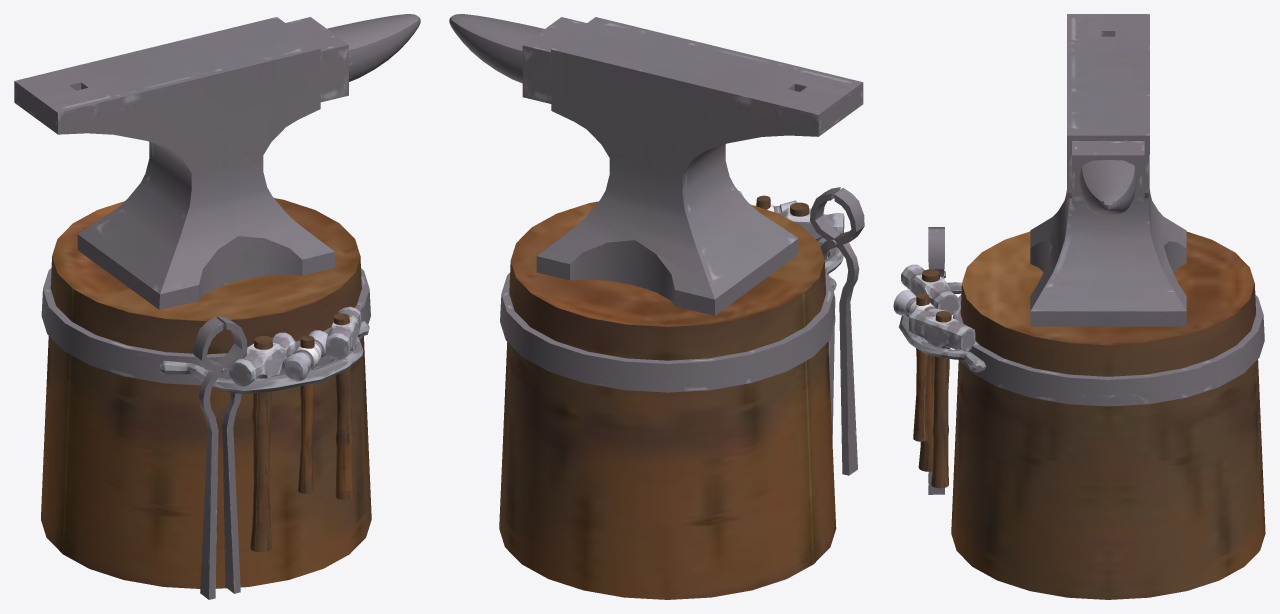
The model's file is anvil-log.glb.
3 renders of one model, left to right at view 1: azimuth 30°, elevation 25°; view 2: azimuth 150°, elevation 25°; view 3: azimuth 270°, elevation 25°, orthographic. The views are drawn at different scales.
Visible parts, largest first — view 1: Anvil_Log; view 2: Anvil_Log; view 3: Anvil_Log.
Part boxes in pixels (x1,y1,x2,y2): Anvil_Log: (14,14,420,599); Anvil_Log: (449,14,864,599); Anvil_Log: (893,14,1265,599).
Size of the model in its own units: 0.9293 by 1.07 by 0.8214.
3 materials, 3 textured.
